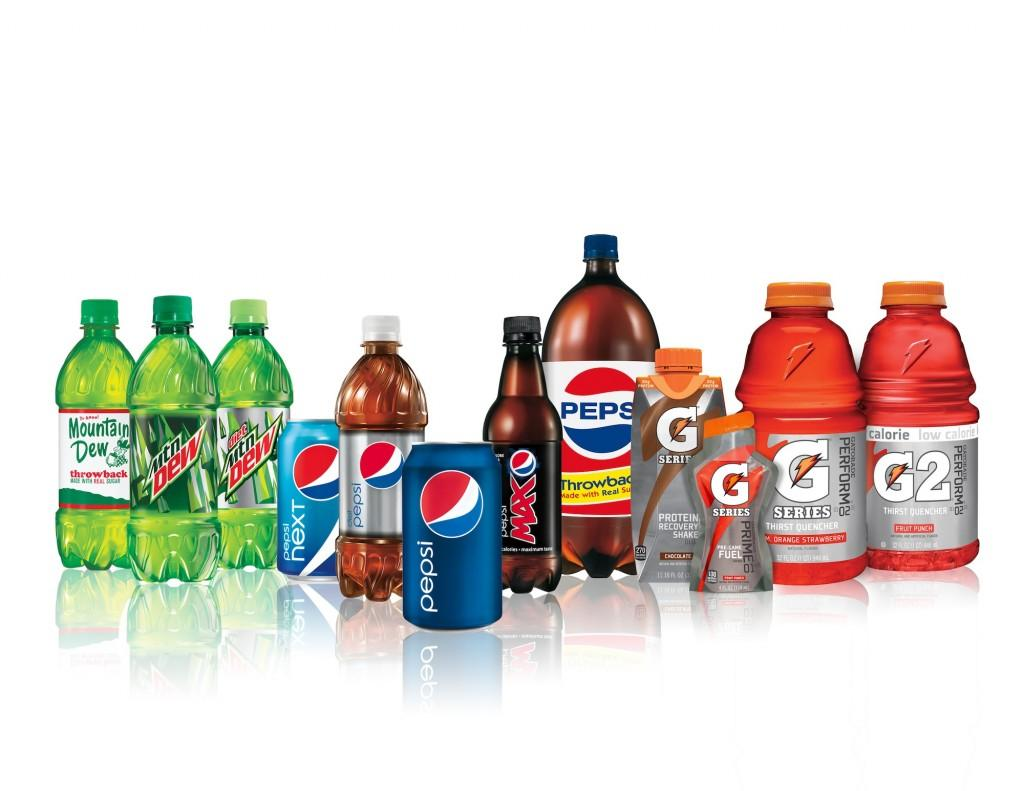pepsi: (550, 364, 637, 456), (560, 364, 637, 456), (421, 463, 483, 536), (419, 468, 483, 536), (421, 468, 483, 536), (291, 439, 339, 499), (291, 442, 339, 499), (357, 440, 404, 487), (507, 445, 534, 473)
